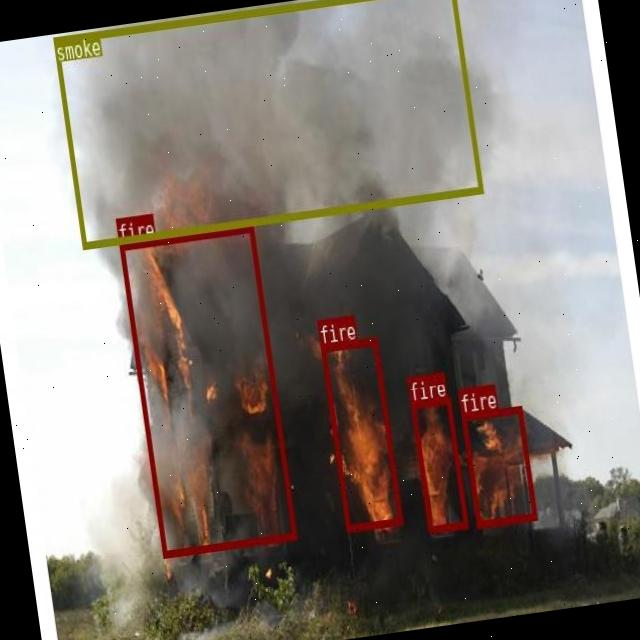fire: (118, 225, 296, 558), (320, 338, 402, 532), (461, 405, 536, 527), (410, 396, 468, 532)
smoke: (53, 0, 483, 248)
